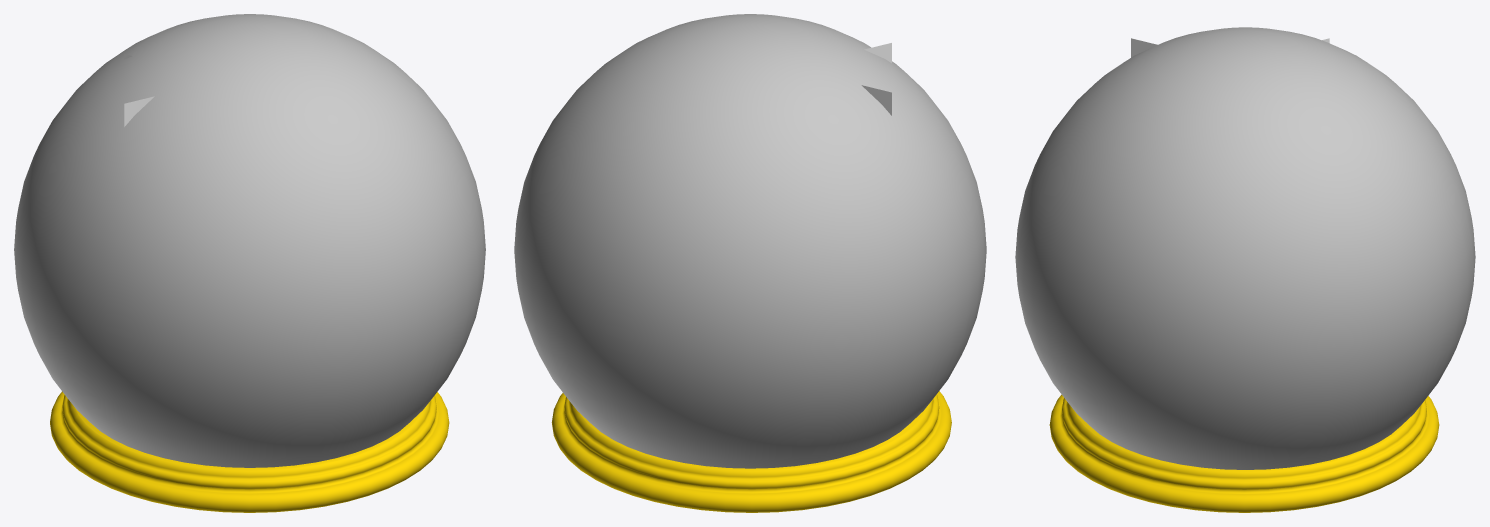
Rendered from hogomb.obj.
3 views of the same model, side by side, from view 1: azimuth 30°, elevation 25°; view 2: azimuth 150°, elevation 25°; view 3: azimuth 270°, elevation 25° (orthographic). The views are drawn at different scales.
Visible parts, largest first — view 1: Mesh3 Group3 Model, Mesh2 Group2 Model; view 2: Mesh3 Group3 Model, Mesh2 Group2 Model; view 3: Mesh3 Group3 Model, Mesh2 Group2 Model.
Boxes of the visible parts, x1,y1,x2,y2 form: Mesh3 Group3 Model: [14, 14, 485, 467]; Mesh2 Group2 Model: [50, 391, 449, 512]; Mesh3 Group3 Model: [514, 14, 986, 468]; Mesh2 Group2 Model: [551, 391, 951, 512]; Mesh3 Group3 Model: [1015, 27, 1475, 469]; Mesh2 Group2 Model: [1049, 394, 1439, 512].
Size of the model in its own units: 9.3 by 8.6 by 9.3.
9 materials, 3 textured.
